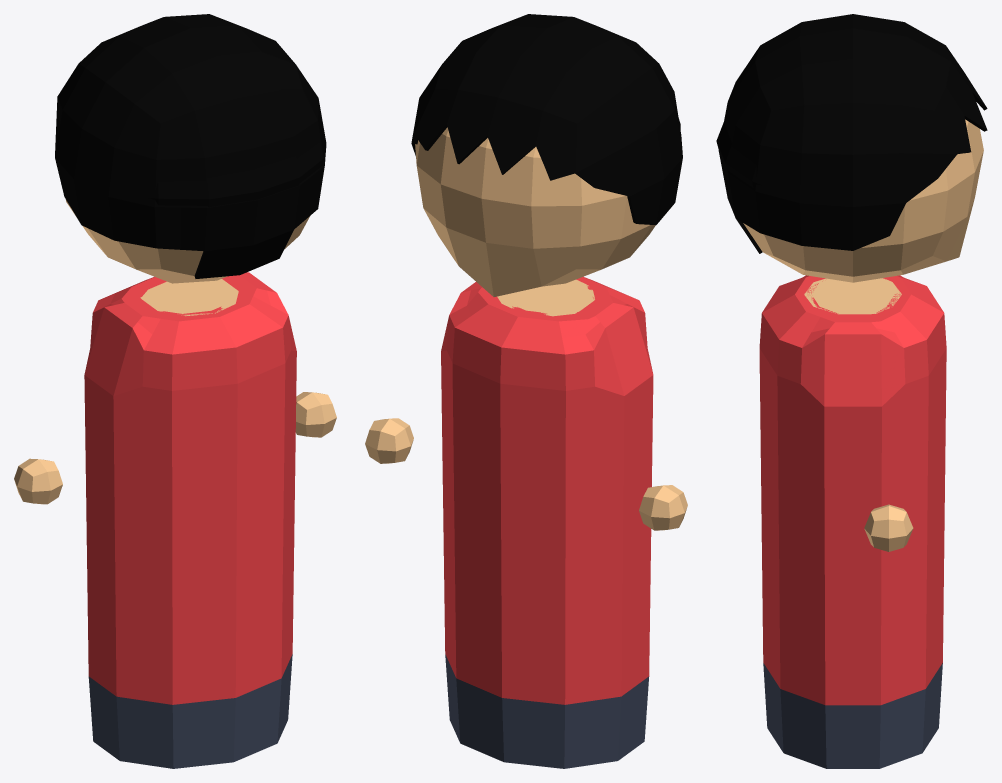
The model's file is CharacterStand.fbx.
The picture shows the model from 3 angles, left to right: view 1: azimuth 30°, elevation 25°; view 2: azimuth 150°, elevation 25°; view 3: azimuth 270°, elevation 25°; orthographic projection.
Parts seen in each view (by area): view 1: Cylinder.091, Cube.3717, Cube.3718, Cube.3719; view 2: Cylinder.091, Cube.3717, Cube.3719, Cube.3718; view 3: Cylinder.091, Cube.3717, Cube.3719.
Boxes of the visible parts, <box> form: Cylinder.091: <box>84,272,296,768</box>; Cube.3717: <box>55,14,326,283</box>; Cube.3718: <box>14,458,62,504</box>; Cube.3719: <box>295,392,336,437</box>; Cylinder.091: <box>441,276,653,768</box>; Cube.3717: <box>411,14,682,296</box>; Cube.3719: <box>365,418,413,463</box>; Cube.3718: <box>639,485,687,530</box>; Cylinder.091: <box>759,275,946,768</box>; Cube.3717: <box>716,14,987,282</box>; Cube.3719: <box>864,504,913,551</box>.
Bounding box in the file's own units: 78.69 × 58.57 × 167.
